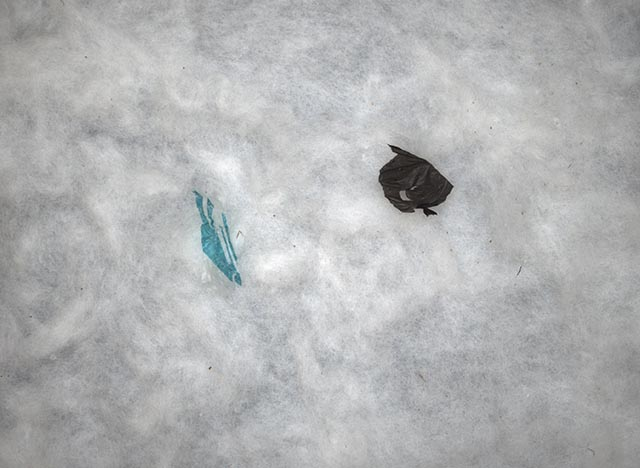plastic film: (190, 183, 247, 287), (377, 143, 455, 217)
